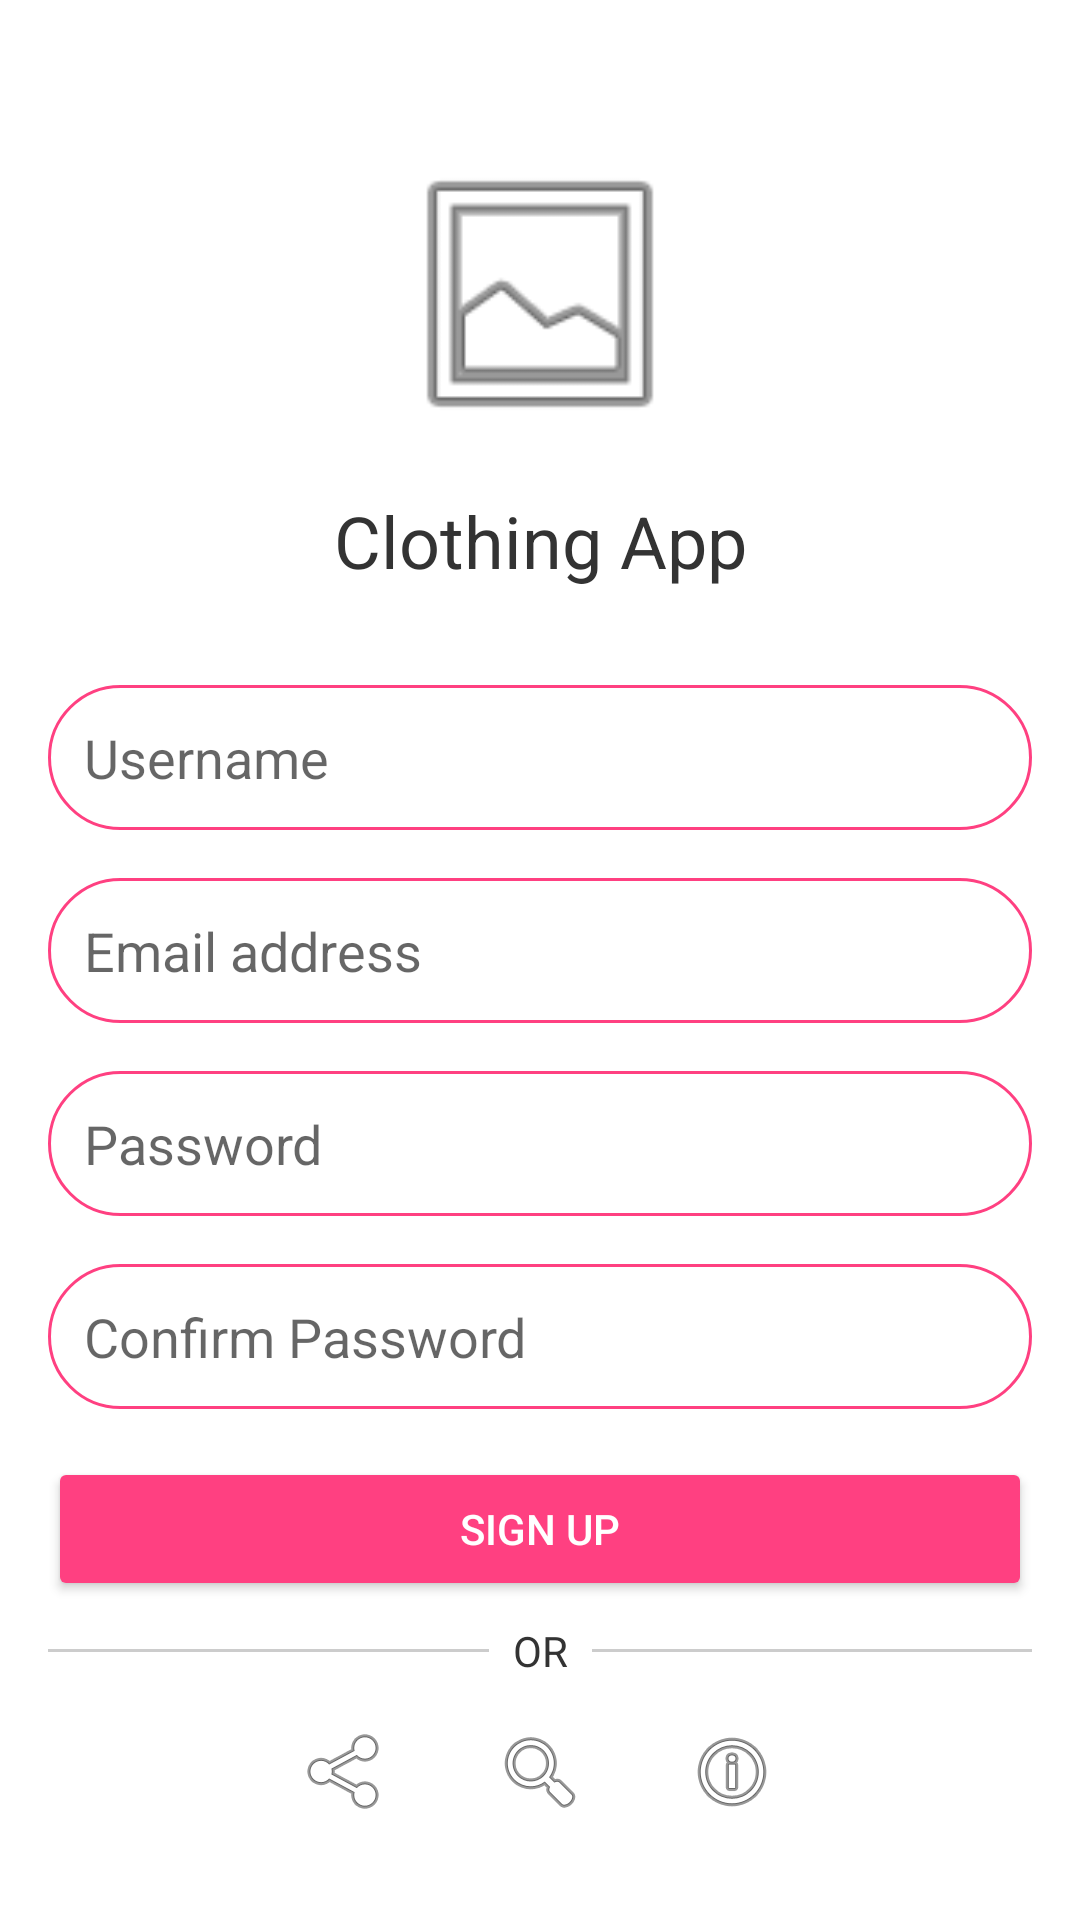

Named icons in this screenshot (1080×1920) and their centers, [x,y]:
gallery: [540,294]
info details: [732,1772]
search: [540,1772]
share: [343,1771]
